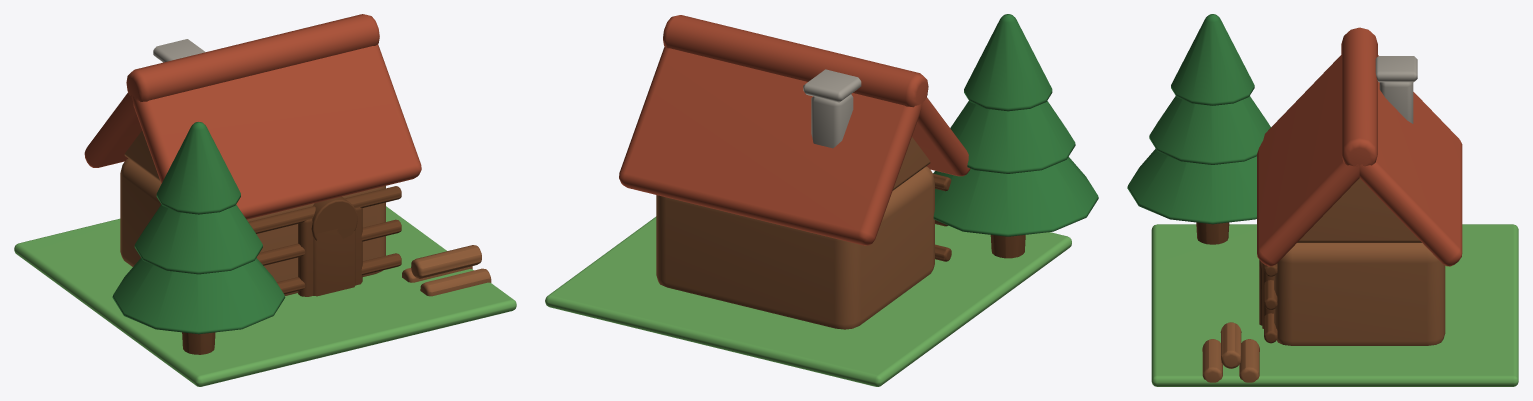
3 renders of one model, left to right at view 1: azimuth 30°, elevation 25°; view 2: azimuth 150°, elevation 25°; view 3: azimuth 270°, elevation 25°, orthographic. The views are drawn at different scales.
Visible parts, largest first — view 1: Cube; view 2: Cube; view 3: Cube.
Part boxes in pixels (<box>): Cube: <box>14,14,516,386</box>; Cube: <box>545,14,1098,386</box>; Cube: <box>1127,14,1518,386</box>.
Bounding box in the file's own units: 0.6798 × 0.423 × 0.6398.
